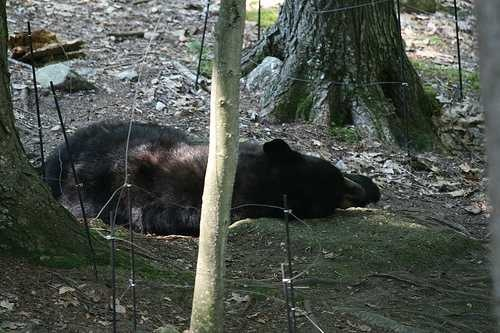bear: (255, 115, 383, 243)
